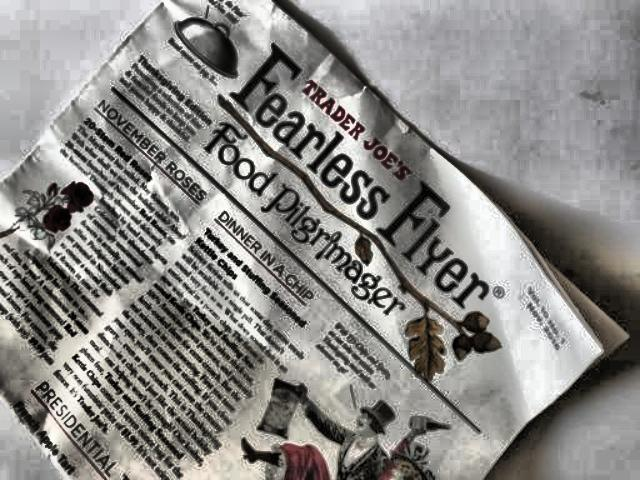Paper: (0, 0, 628, 480)
